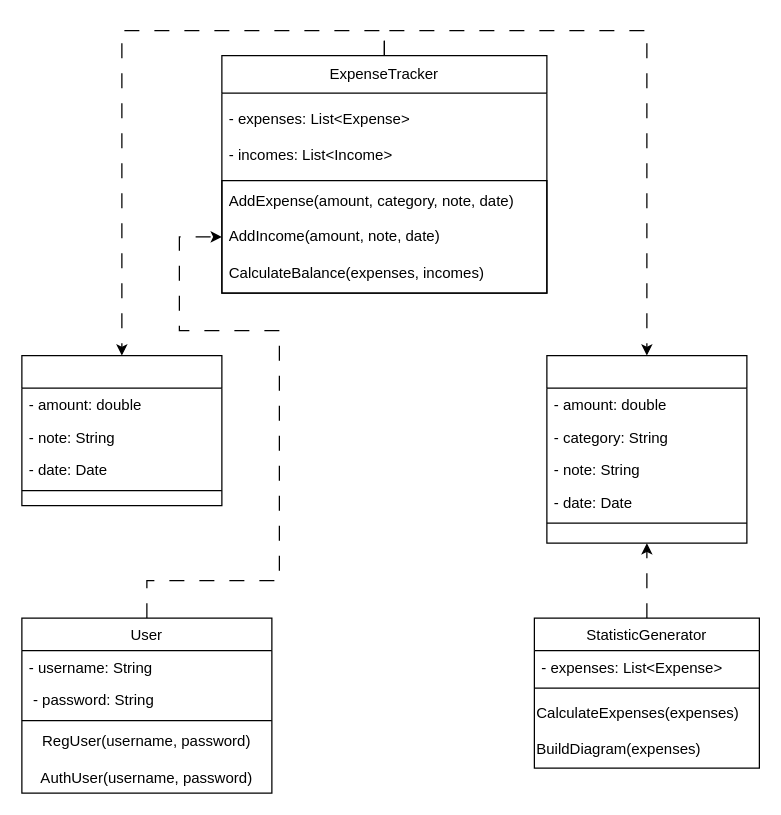
Some shapes in this 781 by 815 pixel diagram are drawn without their labels. Here are the shapes that lost their labels. From the top down, the box of each, then its label:
(21, 354, 222, 506): Income
(546, 354, 747, 543): Expense
